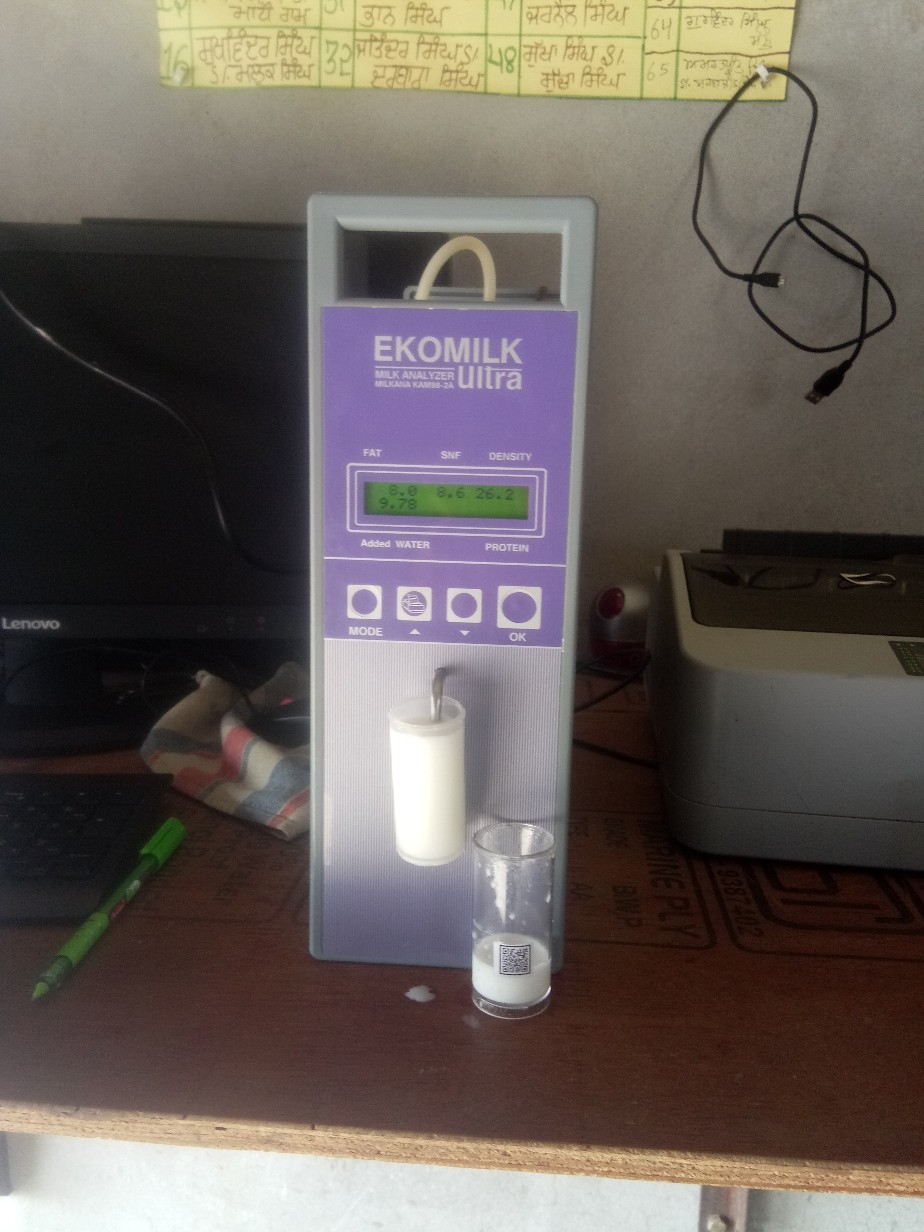lcd: (348, 474, 550, 533)
qr: (487, 933, 548, 987)
